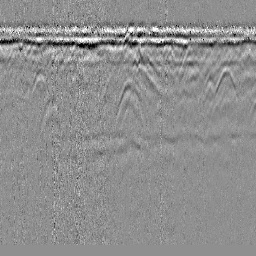cavity: (114, 76, 145, 121)
